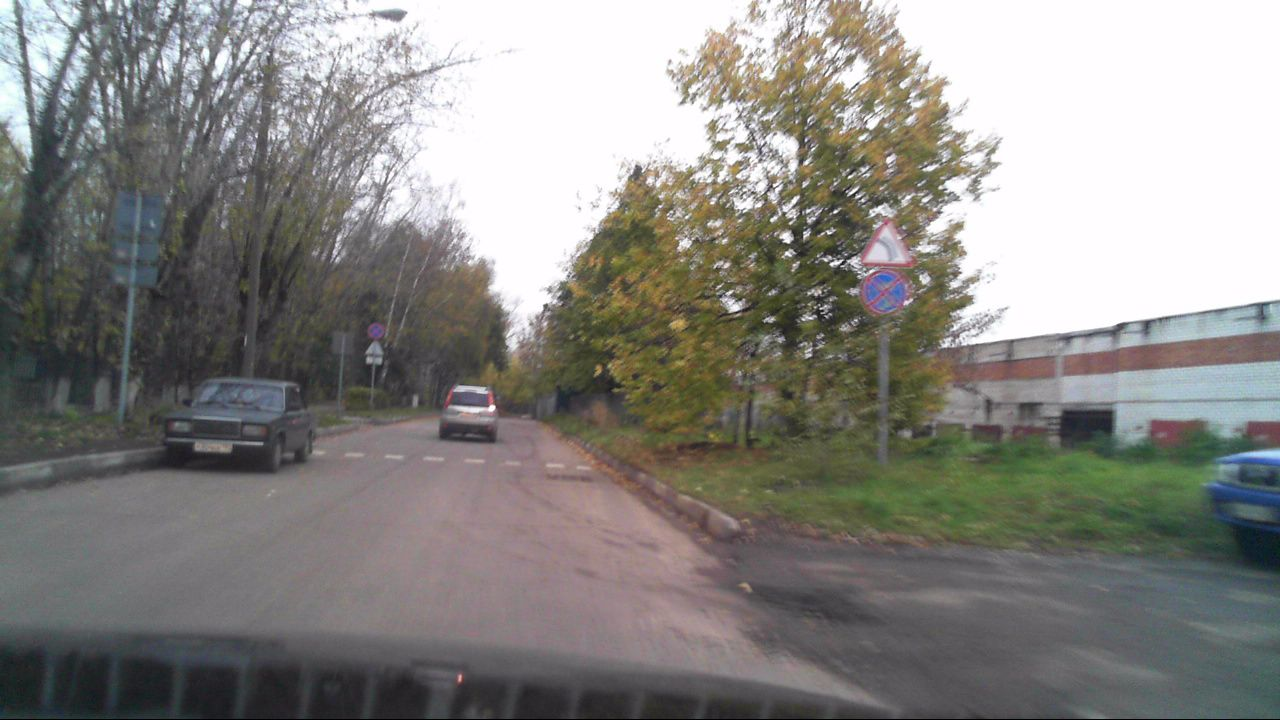No Parking: (860, 270, 905, 315)
